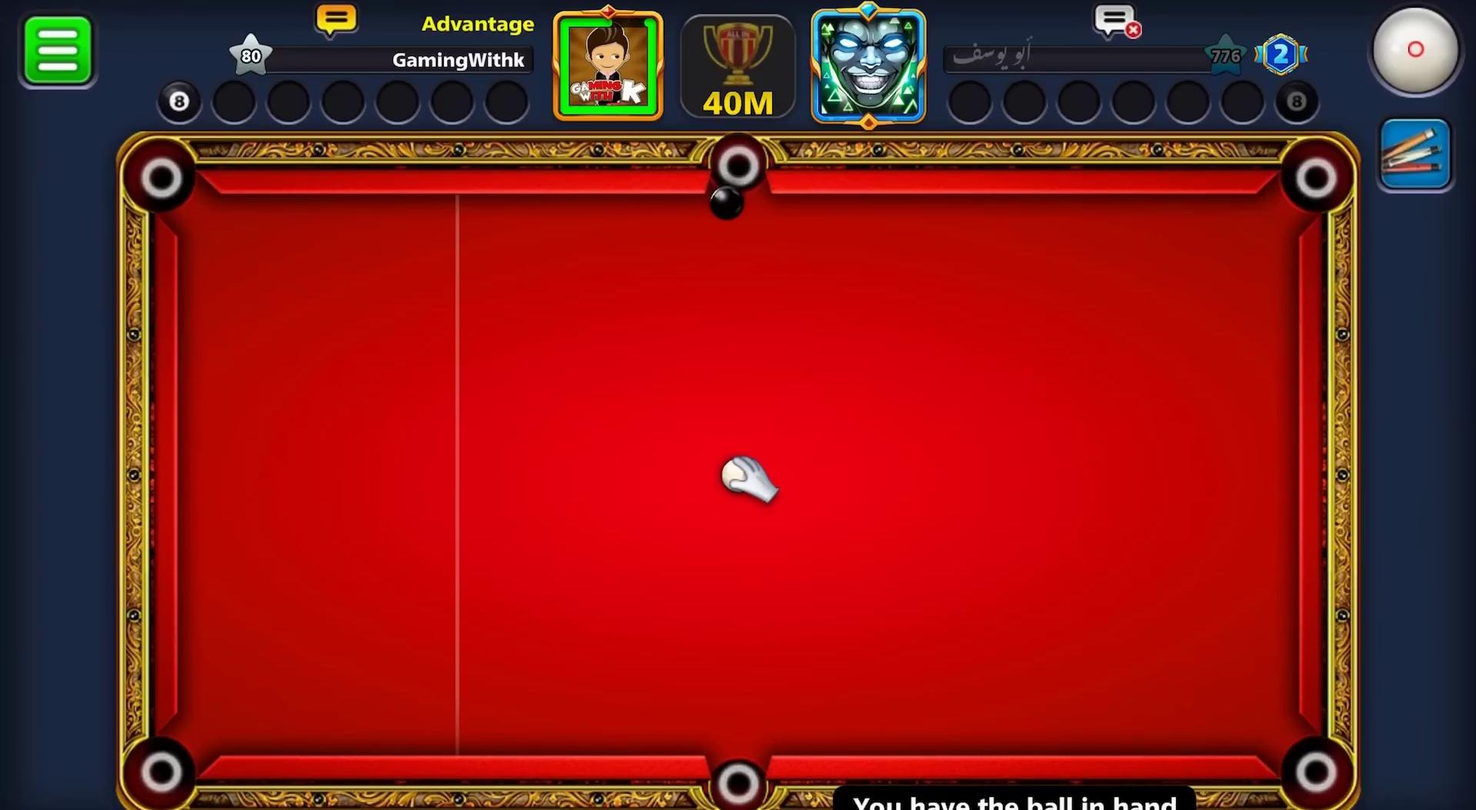Ball: (706, 177, 743, 222)
Hole: (1256, 718, 1374, 809), (118, 126, 213, 229), (1270, 122, 1361, 229), (125, 735, 195, 809), (708, 122, 769, 200)
Play_Area: (178, 195, 1297, 755)
Spin: (1364, 1, 1473, 105)
White: (718, 452, 773, 502)
